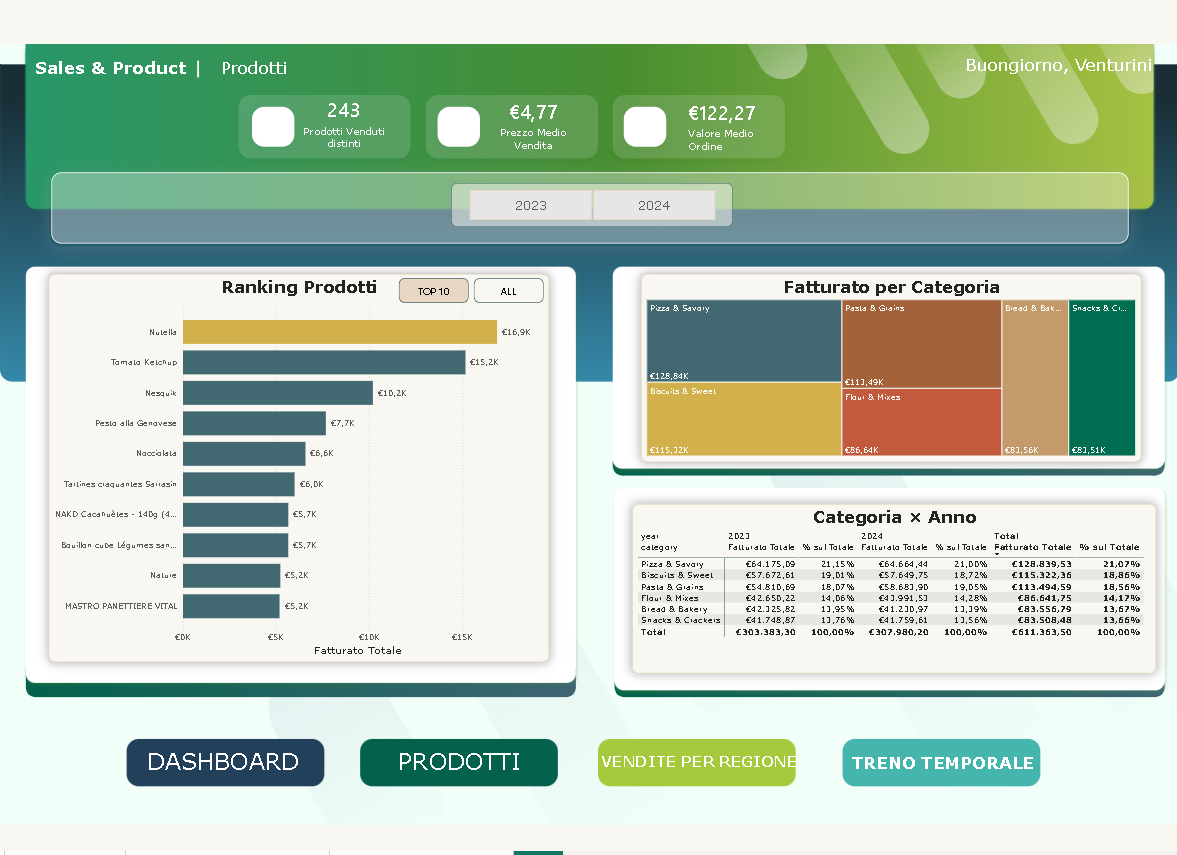

The dashboard page shown, as its layout file describes it:
{"tool":"powerbi","page":{"name":"PRODOTTI","canvas":[1889,1406],"ordinal":1},"visuals":[{"type":"cardVisual","fields":{"Data":["_Measures.Prodotti Venduti distinti"]},"box":[452,142,196,114],"z":0},{"type":"cardVisual","fields":{"Data":["_Measures.Prezzo Medio Vendita"]},"box":[744,124,218,154],"z":1000},{"type":"cardVisual","fields":{"Data":["_Measures.Valore Medio Ordine"]},"box":[1072,138,198,130],"z":2000},{"type":"barChart","title":"Ranking Prodotti","fields":{"Category":["Products.product_name"],"Y":["_Measures.Fatturato Totale"]},"box":[77.5,442.5,800,620],"z":3000},{"type":"treemap","title":"Fatturato per Categoria","fields":{"Values":["_Measures.Fatturato Totale"],"Group":["Products.category"]},"box":[1025,442.5,800,300],"z":4000},{"type":"pivotTable","title":"Categoria × Anno","fields":{"Rows":["Products.category"],"Values":["_Measures.Fatturato Totale","_Measures.% sul Totale"],"Columns":["Calendar.year"]},"box":[1012.5,810,837.5,270],"z":5000},{"type":"shape","box":[202.5,1175,315,97.5],"z":6000},{"type":"shape","box":[962,1180,314,98],"z":7000},{"type":"shape","box":[1348,1180,314,98],"z":8000},{"type":"card","fields":{"Values":["_Measures.Titolo"]},"box":[45.9,78.6,262,68],"z":9000},{"type":"card","fields":{"Values":["_Measures.Prodotti"]},"box":[310,77.5,195,70],"z":10000},{"type":"card","fields":{"Values":["_Measures.Messaggio_benvenuto"]},"box":[1386,72,464,70],"z":11000},{"type":"textbox","box":[230,1192.5,297.5,60],"z":12000},{"type":"textbox","box":[632.5,1192.5,220,60],"z":13000},{"type":"textbox","box":[955,1202.5,352.5,60],"z":14000},{"type":"textbox","box":[1357.5,1202.5,307.5,57.5],"z":15000},{"type":"shape","title":"All","box":[758,448,112,40],"z":17000},{"type":"shape","title":"top10 pressed","box":[638,448,112,40],"z":19000},{"type":"slicer","fields":{"Values":["Calendar.year"]},"box":[722,296,450,70],"z":20000}]}

Visuals, with their boxes in screenshot pixels (x1, y1, x2, y2), scaled from the page's 1889x1406 canvas onto the 1177x855 screenshot:
cardVisual - _Measures.Prodotti Venduti distinti: <bbox>282, 86, 404, 156</bbox>
cardVisual - _Measures.Prezzo Medio Vendita: <bbox>464, 75, 599, 169</bbox>
cardVisual - _Measures.Valore Medio Ordine: <bbox>668, 84, 791, 163</bbox>
"Ranking Prodotti" barChart: <bbox>48, 269, 547, 646</bbox>
"Fatturato per Categoria" treemap: <bbox>639, 269, 1137, 452</bbox>
"Categoria × Anno" pivotTable: <bbox>631, 493, 1153, 657</bbox>
shape: <bbox>126, 715, 322, 774</bbox>
shape: <bbox>599, 718, 795, 777</bbox>
shape: <bbox>840, 718, 1036, 777</bbox>
card - _Measures.Titolo: <bbox>29, 48, 192, 89</bbox>
card - _Measures.Prodotti: <bbox>193, 47, 315, 90</bbox>
card - _Measures.Messaggio_benvenuto: <bbox>864, 44, 1153, 86</bbox>
textbox: <bbox>143, 725, 329, 762</bbox>
textbox: <bbox>394, 725, 531, 762</bbox>
textbox: <bbox>595, 731, 815, 768</bbox>
textbox: <bbox>846, 731, 1037, 766</bbox>
"All" shape: <bbox>472, 272, 542, 297</bbox>
"top10 pressed" shape: <bbox>398, 272, 467, 297</bbox>
slicer - Calendar.year: <bbox>450, 180, 730, 223</bbox>
